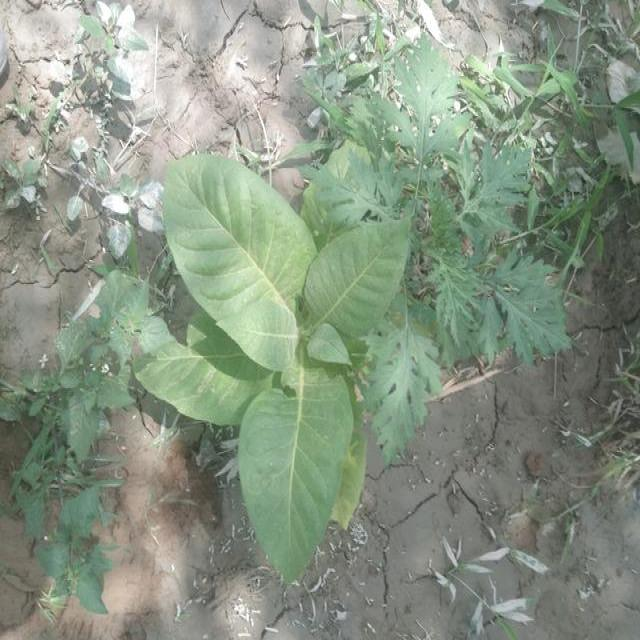crop: (146, 158, 384, 586)
